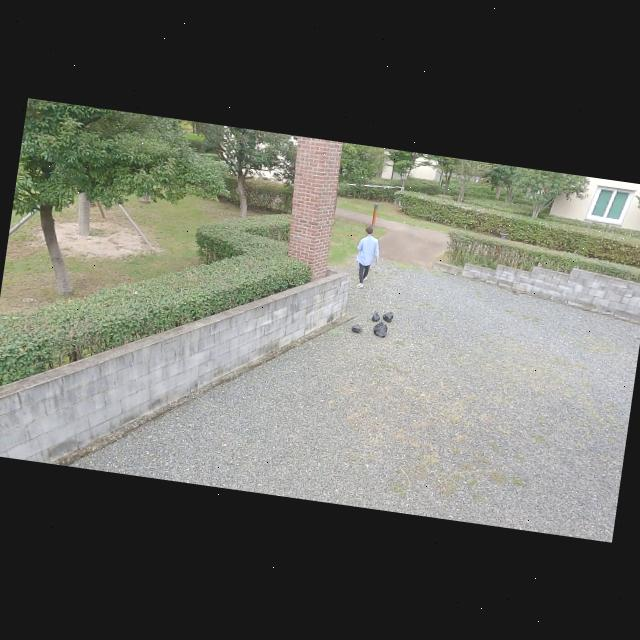trash: (370, 318, 392, 338), (382, 308, 398, 324), (348, 321, 364, 335), (370, 308, 382, 322)
